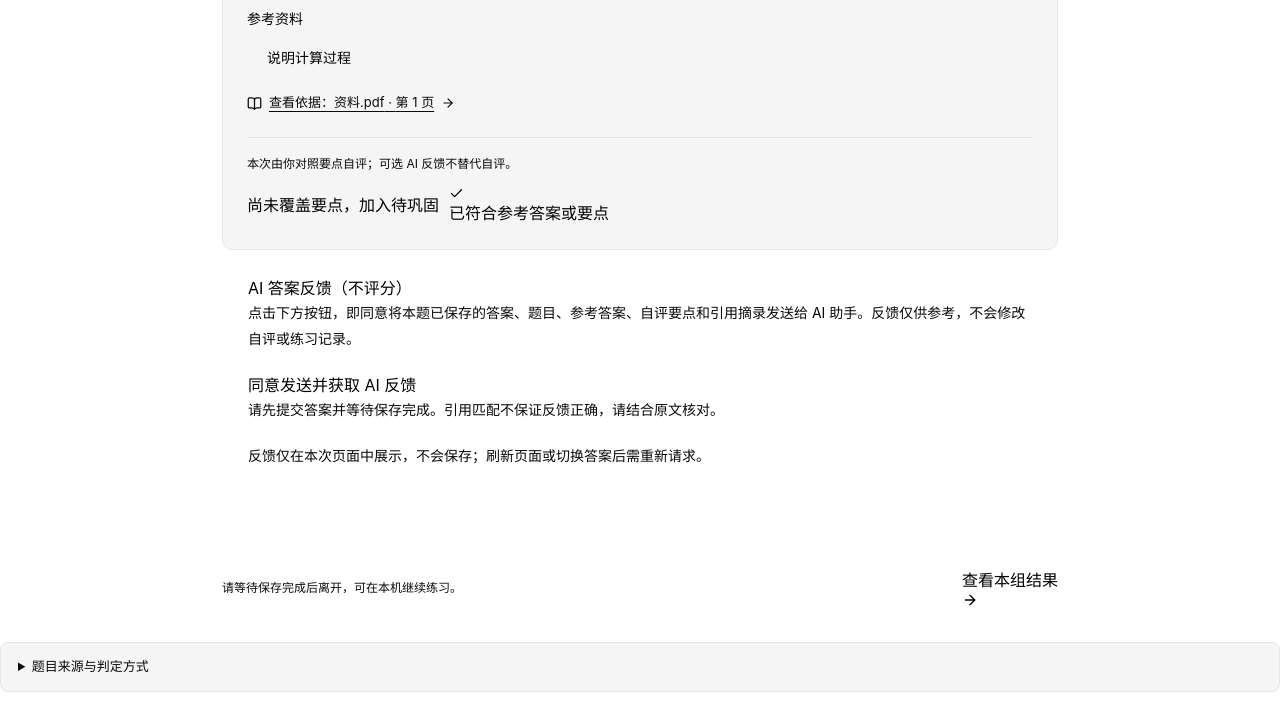
Test: does not abort an in-flight feedback request when self-assessment becomes unsaved
(page scrolled)
Click the button "同意发送并获取 AI 反馈": (332, 385) [248,373,416,397]
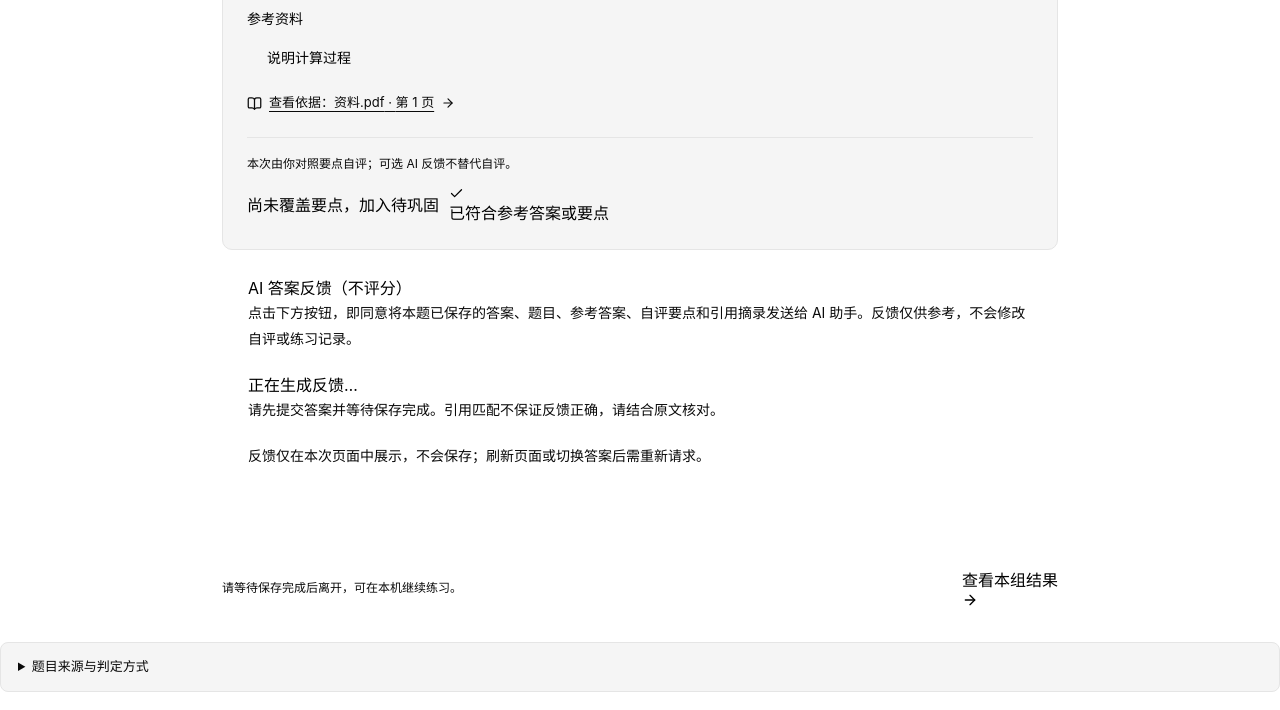
Click the button "已符合参考答案或要点": (529, 205) [449,186,609,225]
Wait 350 ms
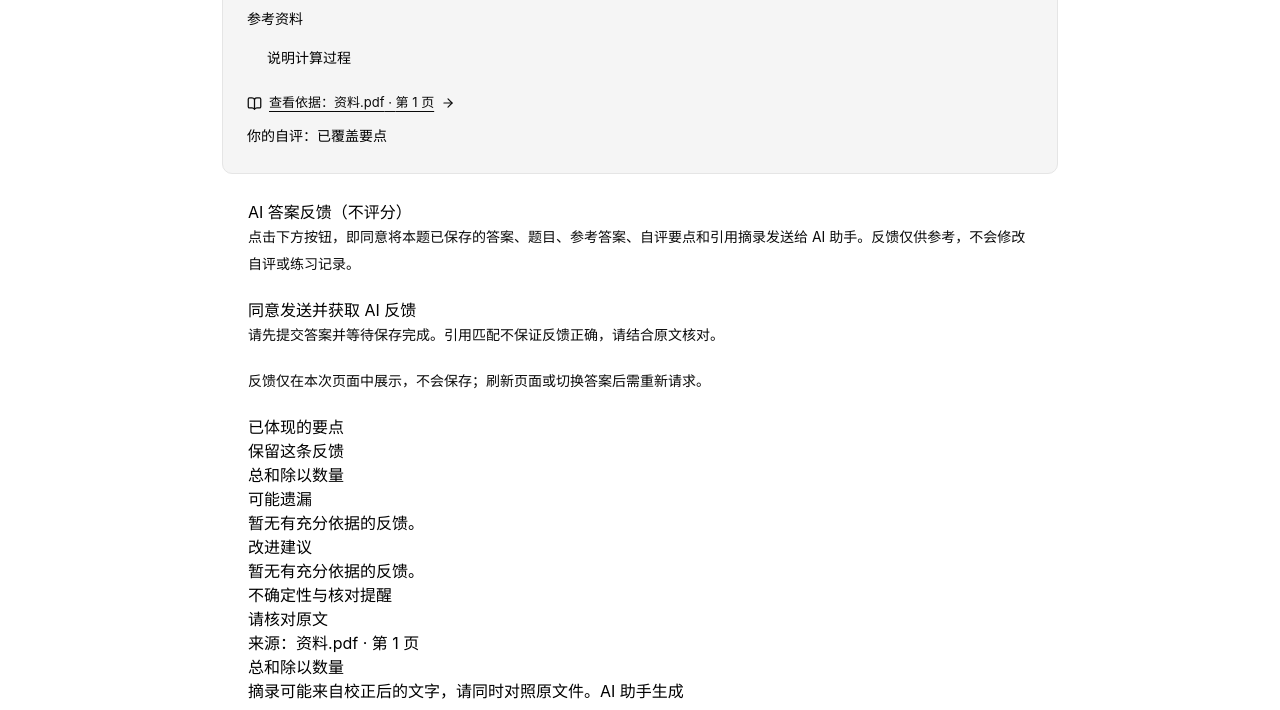
Check: the text "保留这条反馈" is shown, box [248,441,344,461]
